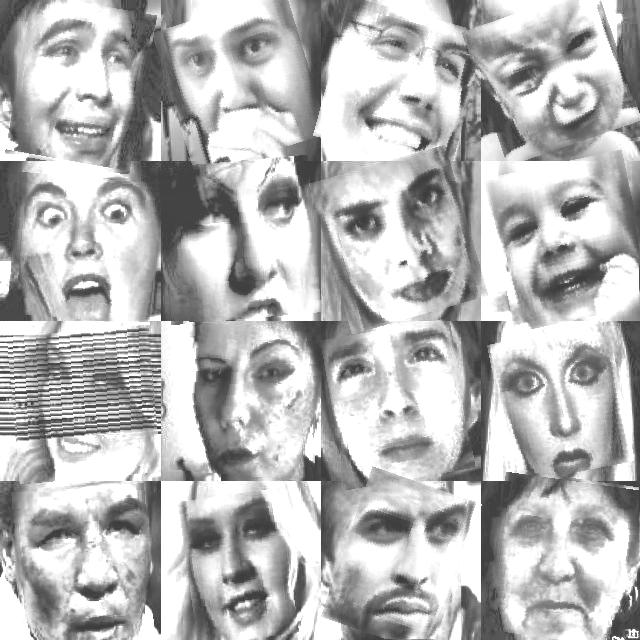angry: (161, 158, 318, 322), (173, 324, 323, 479), (326, 323, 469, 485)
fear: (162, 1, 320, 165), (10, 175, 159, 323), (493, 327, 628, 479)
happy: (490, 155, 640, 325), (321, 4, 479, 164), (489, 473, 640, 640), (332, 473, 471, 640), (10, 328, 158, 482), (183, 491, 294, 640)
neutral: (319, 153, 479, 326), (13, 485, 151, 640)
sad: (471, 0, 632, 156), (11, 0, 150, 169)
